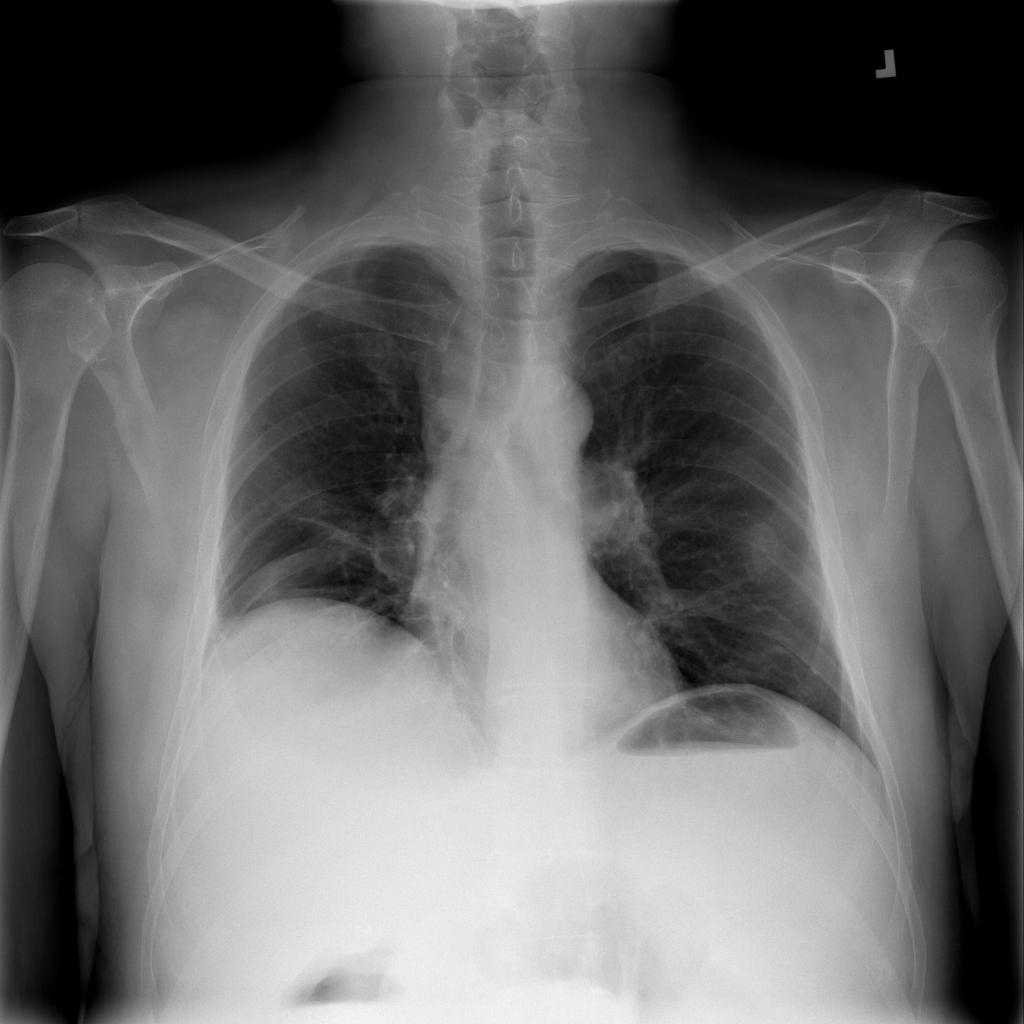nodule: (735, 506, 798, 591)
